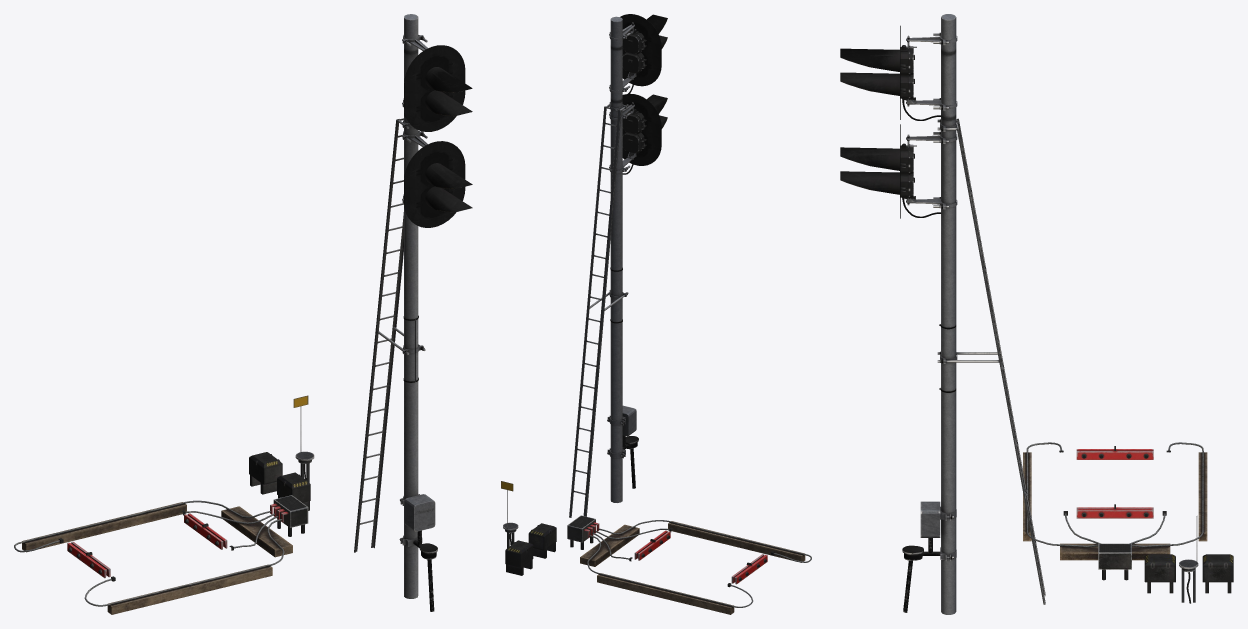
The model's file is RM_sig_P_MM2_2+2_exit.gltf.
The picture shows the model from 3 angles, left to right: view 1: azimuth 30°, elevation 25°; view 2: azimuth 150°, elevation 25°; view 3: azimuth 270°, elevation 25°; orthographic projection. The views are drawn at different scales.
Visible parts, largest first — view 1: Светофор выходной, Изостык, Cylinder002, Cylinder001; view 2: Светофор выходной, Изостык, Cylinder001, Cylinder002; view 3: Светофор выходной, Изостык.
Boxes of the visible parts, x1=… form: Светофор выходной: x1=354, y1=14, x2=472, y2=611; Изостык: x1=14, y1=395, x2=314, y2=614; Cylinder002: x1=404, y1=141, x2=465, y2=227; Cylinder001: x1=404, y1=45, x2=465, y2=131; Светофор выходной: x1=569, y1=14, x2=667, y2=517; Изостык: x1=501, y1=481, x2=811, y2=614; Cylinder001: x1=620, y1=14, x2=661, y2=86; Cylinder002: x1=622, y1=93, x2=661, y2=165; Светофор выходной: x1=840, y1=14, x2=1045, y2=614; Изостык: x1=1023, y1=442, x2=1233, y2=603.
Size of the model in its own units: 4.22 by 7.57 by 4.54.
3 materials, 2 textured.
